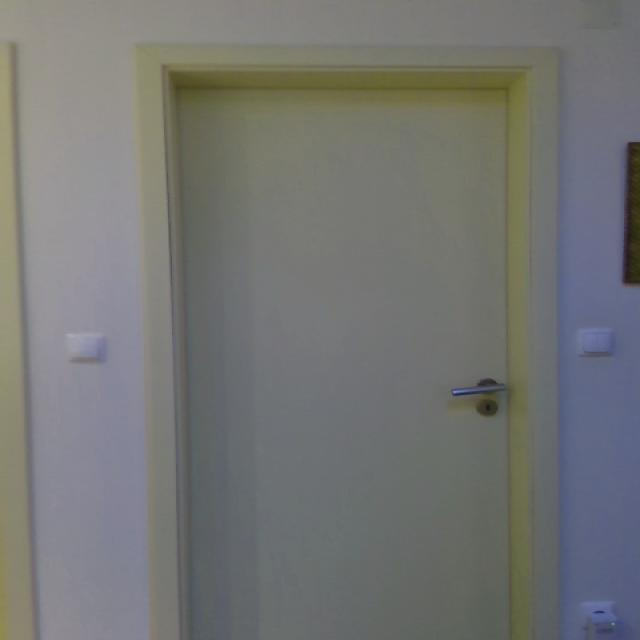door: (126, 47, 572, 640)
